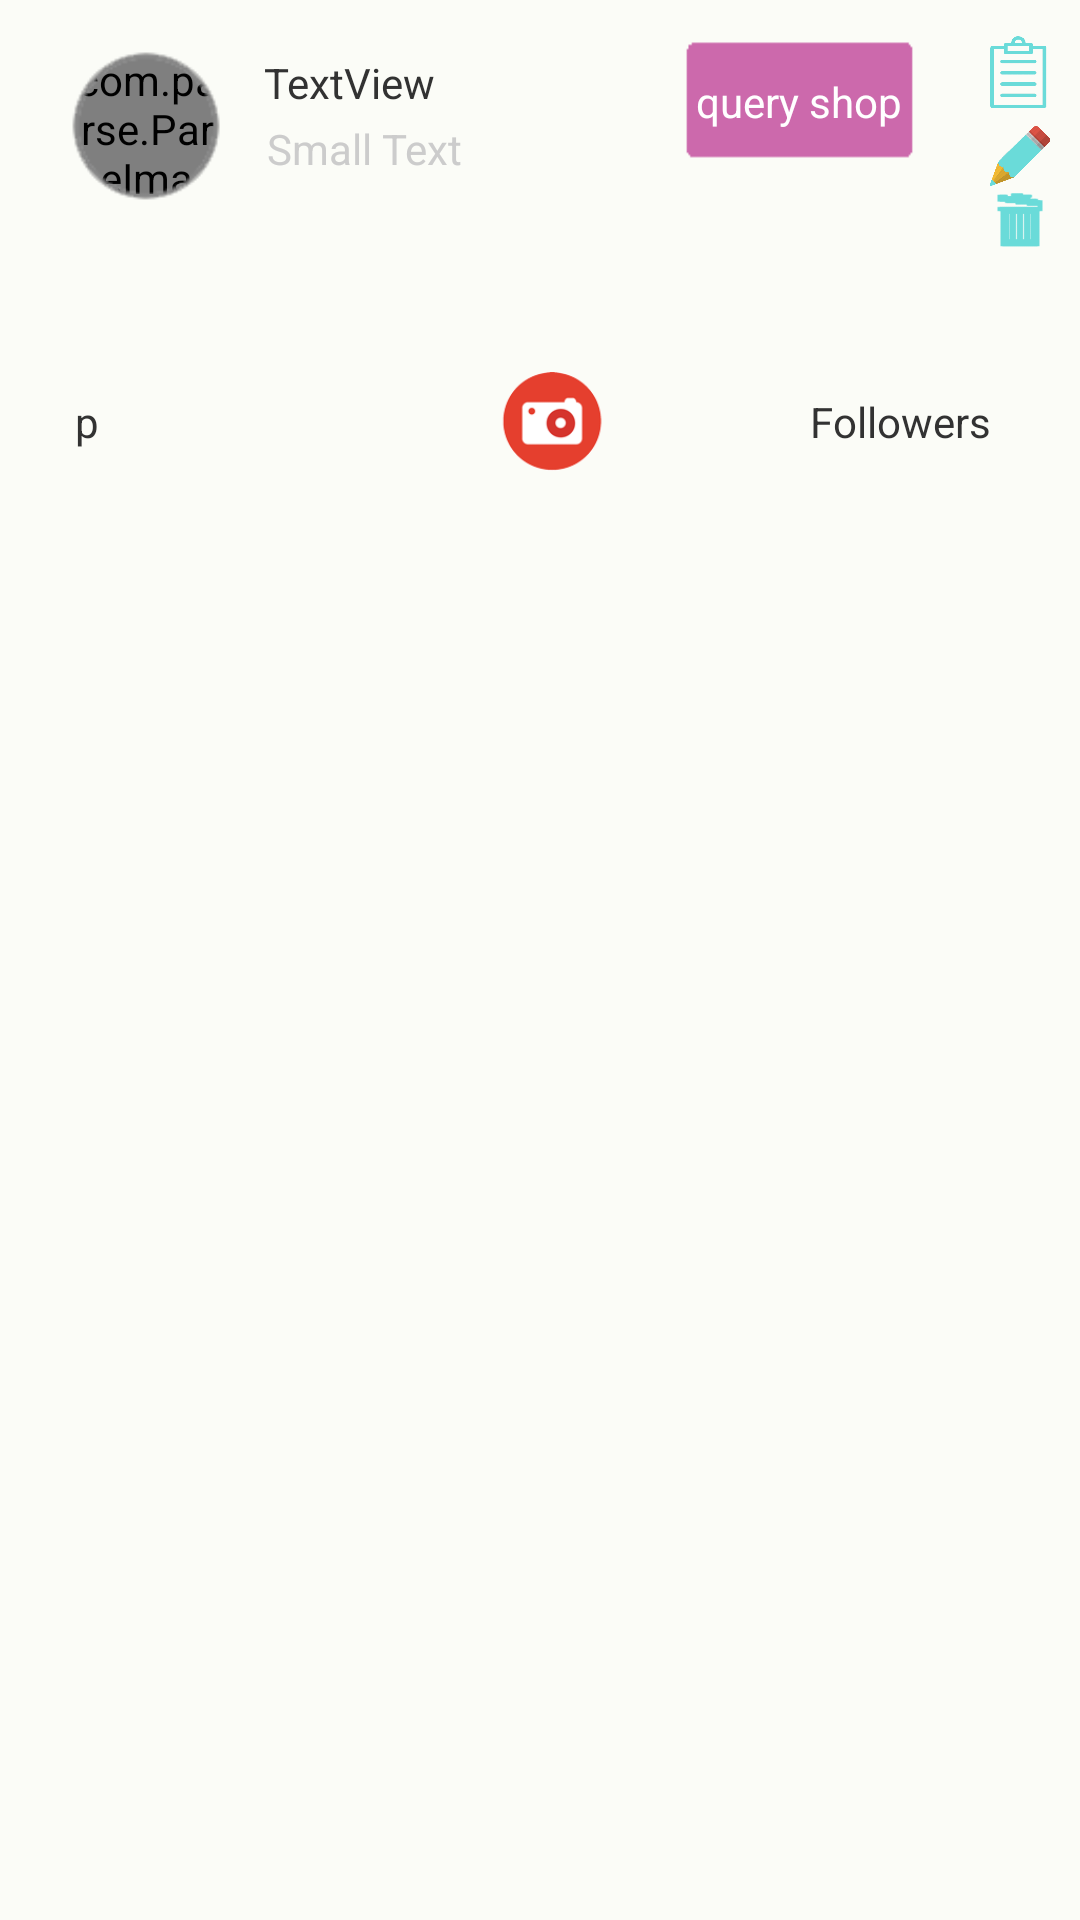

Named icons in this screenshot (1080×1920) and their centers, (x=x, y=y):
allshoporder: (x=1018, y=72)
delete: (x=1020, y=220)
